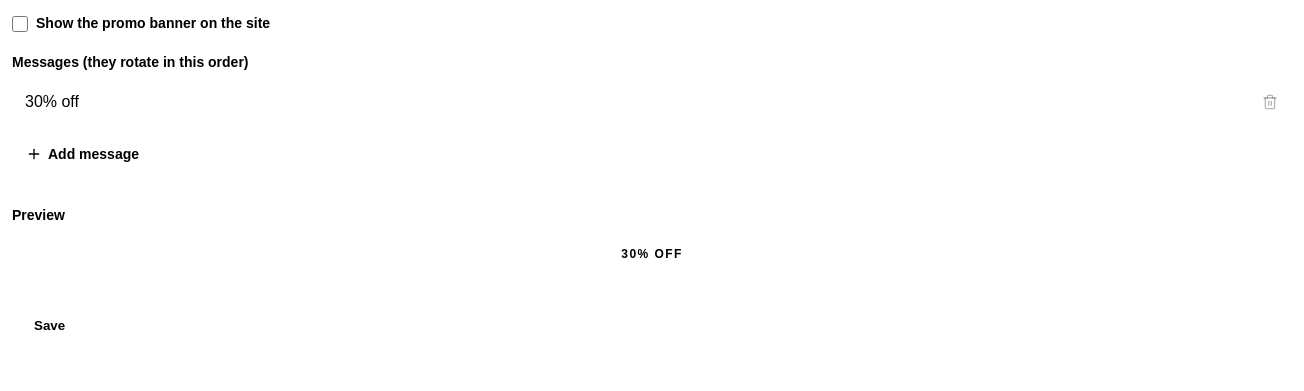
Scenario: PromoBannerForm › surfaces a save failure
This screenshot has width=1304, height=391.
Check: the field showing "30% off" is shown, box [12,78,1240,127]
Click the button "Save".
click(50, 325)  # box [12,307,87,344]
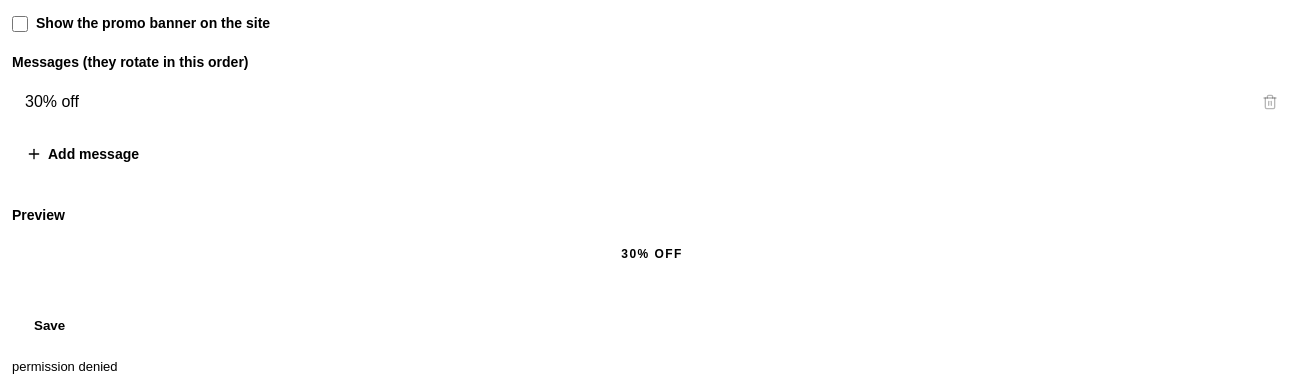
Check: the message reads "permission denied", box [12,359,118,374]
